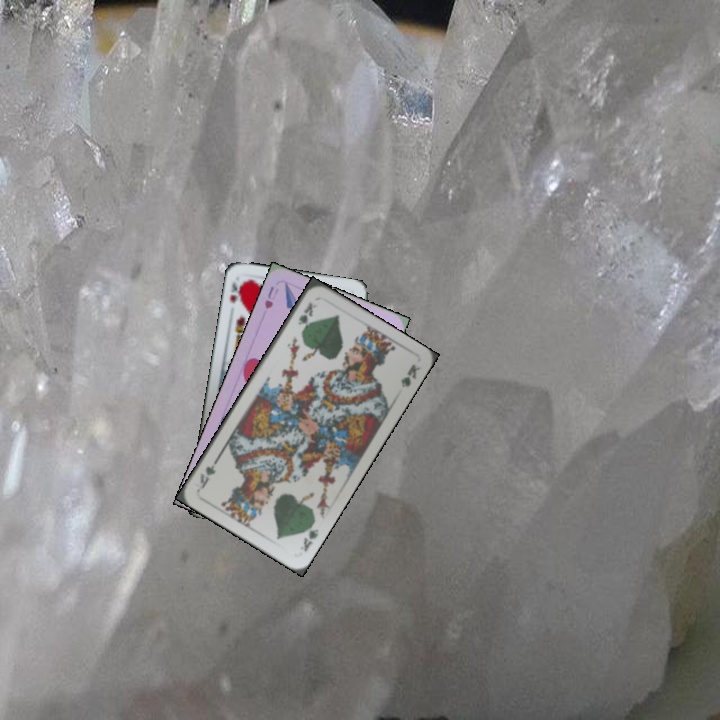GK: (294, 298, 319, 335), (296, 518, 321, 554)
HK: (225, 277, 247, 306)
HU: (260, 282, 281, 312)
